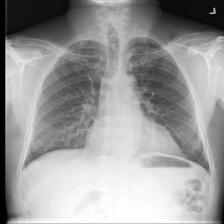normal: (18, 33, 220, 179)
